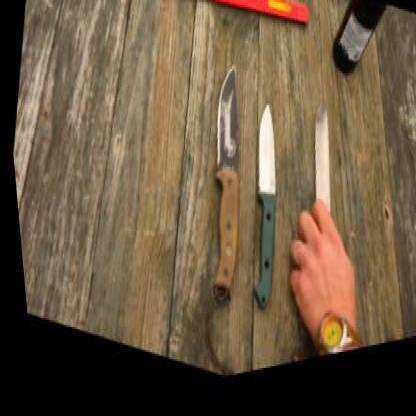knife: (270, 82, 378, 306), (190, 50, 262, 224), (233, 92, 296, 242)
